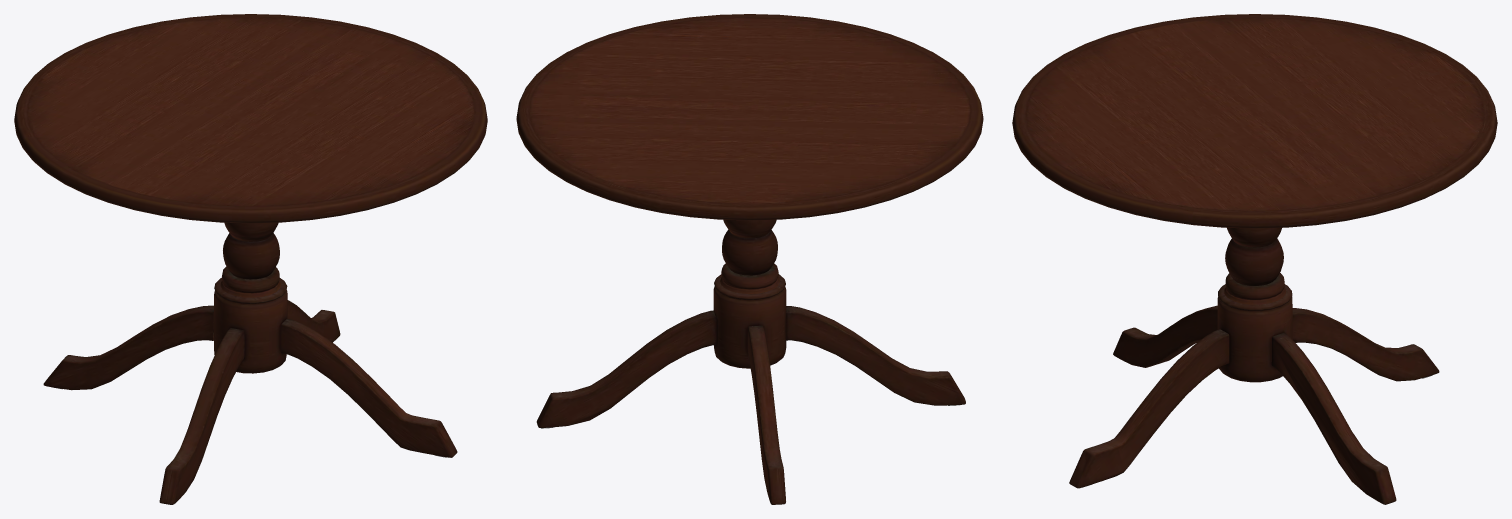
Rendered from table_round.glb.
3 views of the same model, side by side, from view 1: azimuth 30°, elevation 25°; view 2: azimuth 150°, elevation 25°; view 3: azimuth 270°, elevation 25° (orthographic). The views are drawn at different scales.
Parts seen in each view (by area): view 1: round_wooden_table_01_round_wooden_table_01_0; view 2: round_wooden_table_01_round_wooden_table_01_0; view 3: round_wooden_table_01_round_wooden_table_01_0.
Boxes of the visible parts, x1,y1,x2,y2 form: round_wooden_table_01_round_wooden_table_01_0: (14, 14, 487, 504); round_wooden_table_01_round_wooden_table_01_0: (516, 14, 983, 504); round_wooden_table_01_round_wooden_table_01_0: (1012, 14, 1497, 504).
Bounding box in the file's own units: 1.4 × 1 × 1.4.
Materials: 1 (1 with a texture image).
